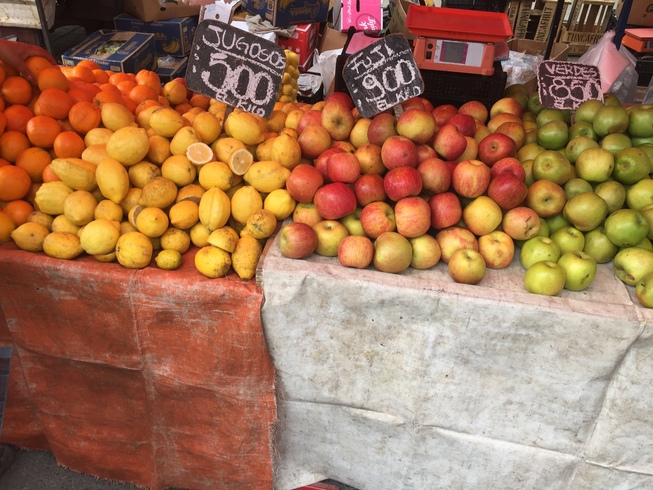precio: (182, 16, 300, 124), (331, 30, 436, 128), (532, 56, 612, 120)
